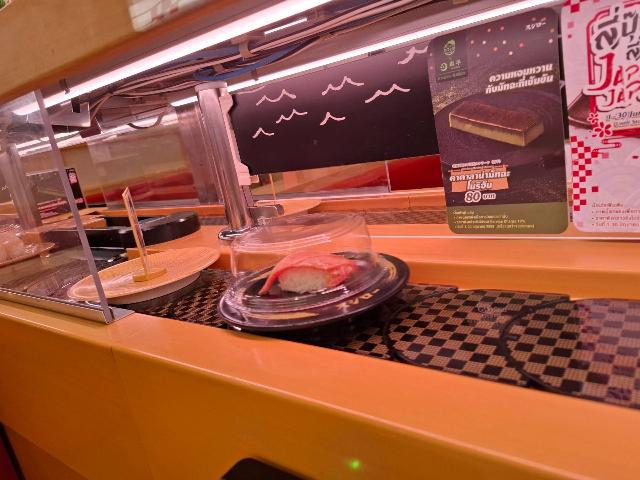janback: (211, 251, 426, 318)
